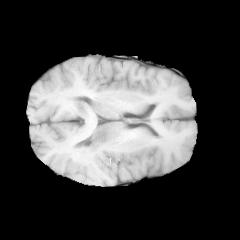glioma: (74, 99, 109, 156)
